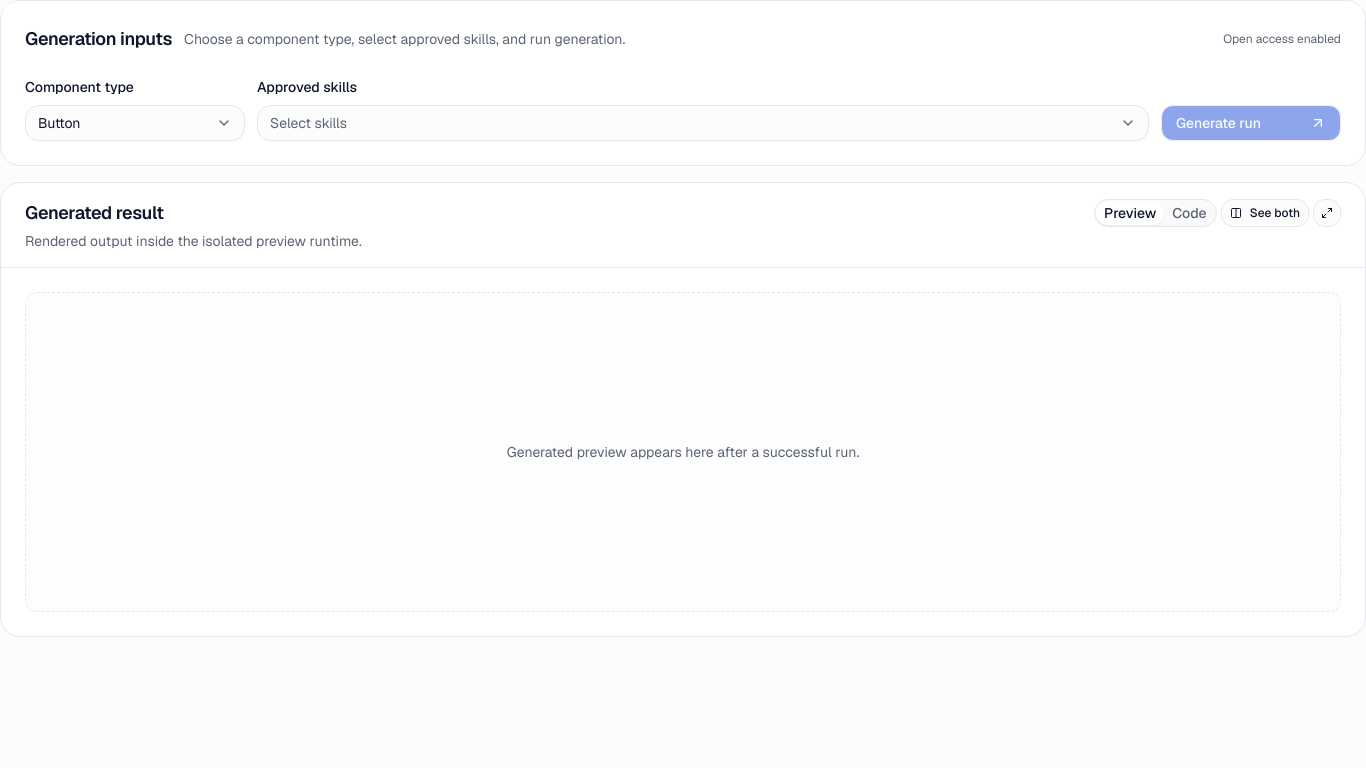
Test case: shows generation validation details when the server rejects the artifact
What coordinates should you click on to do the following:
click the button "Select skills"
I would click on:
 (309, 123)
Its box is [257,105,1149,141].
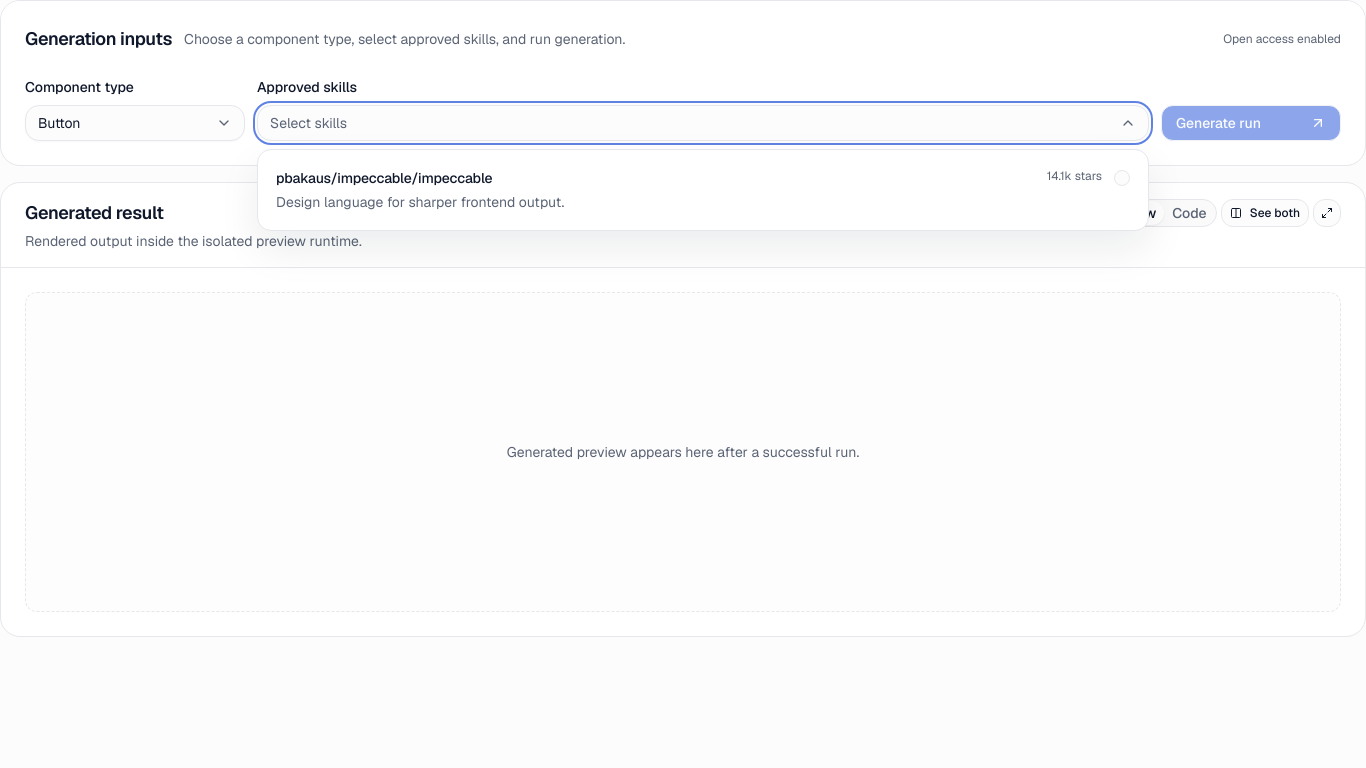
What coordinates should you click on to do the following:
click the text "pbakaus/impeccable/impeccable"
I would click on:
 (384, 178)
Its box is [276,168,492,188].
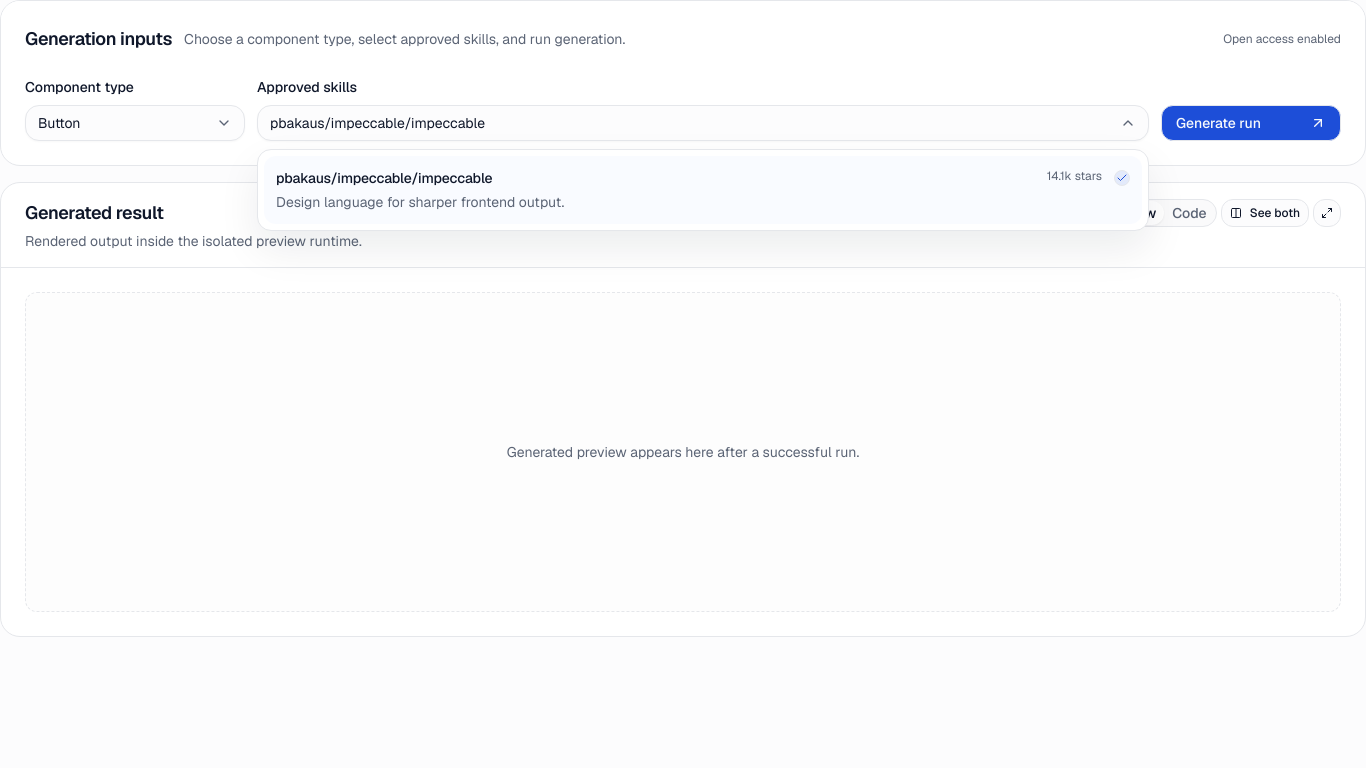
What coordinates should you click on to do the following:
click the button "Generate run"
I would click on:
 (1251, 123)
Its box is [1161,105,1341,141].
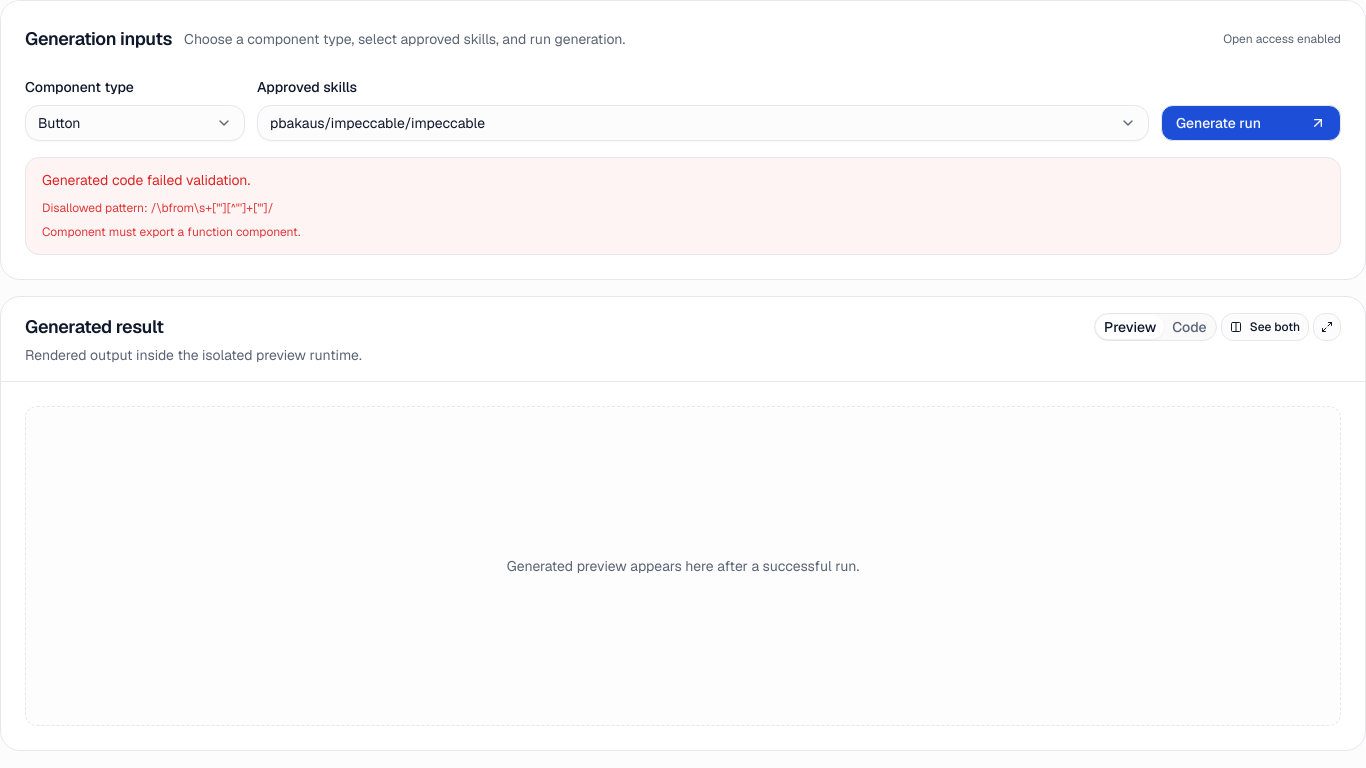
Result: the text "Generated code failed validation." is shown at [42,171,250,189]
Result: the list item "Disallowed pattern: /\\bfrom\\s+[\"'][^\"']+[\"']/" is shown at [42,200,273,216]
Result: the list item "Component must export a function component." is shown at [42,224,300,240]
